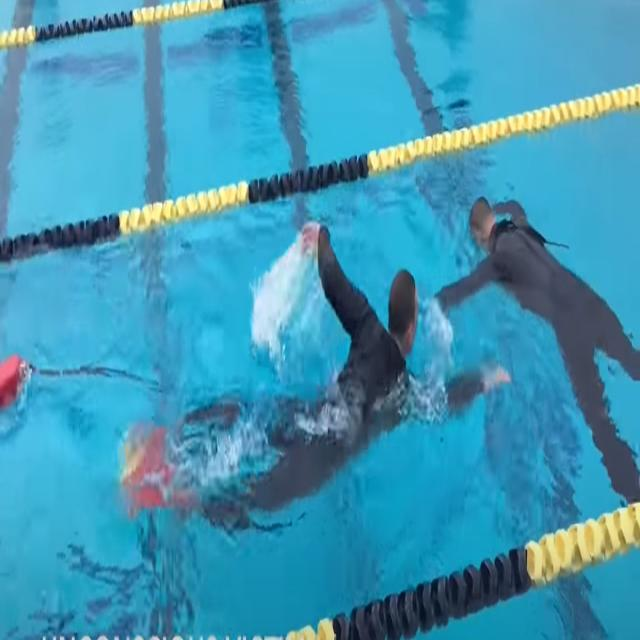Drowning: (440, 186, 640, 497)
Swimming: (183, 218, 508, 501)
